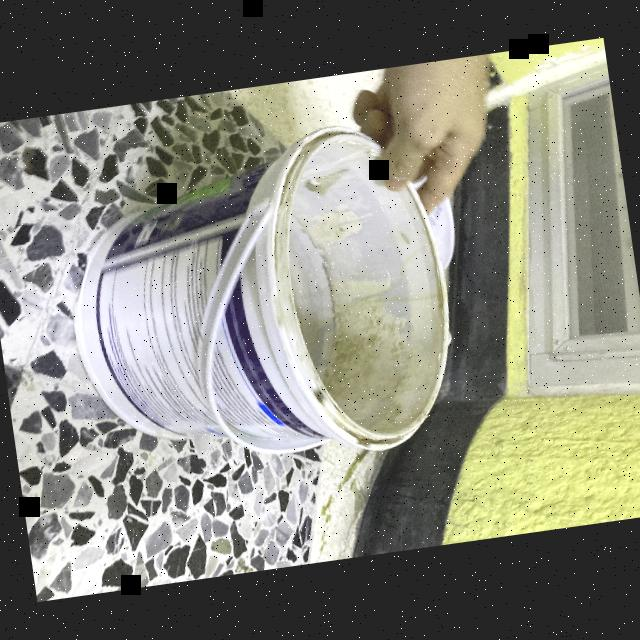paint_bucket: (51, 117, 471, 490)
